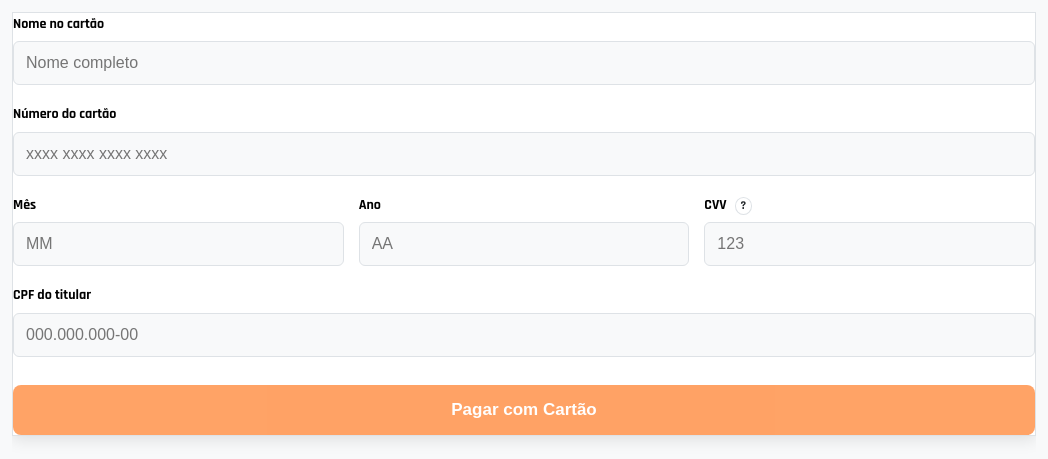
Test: CreditCardForm.vue › formata o número do cartão com espaços
Type "1234567812345678" into the field with id "numeroCartao" at {"x": 524, "y": 154}, box [13,132,1035,176]
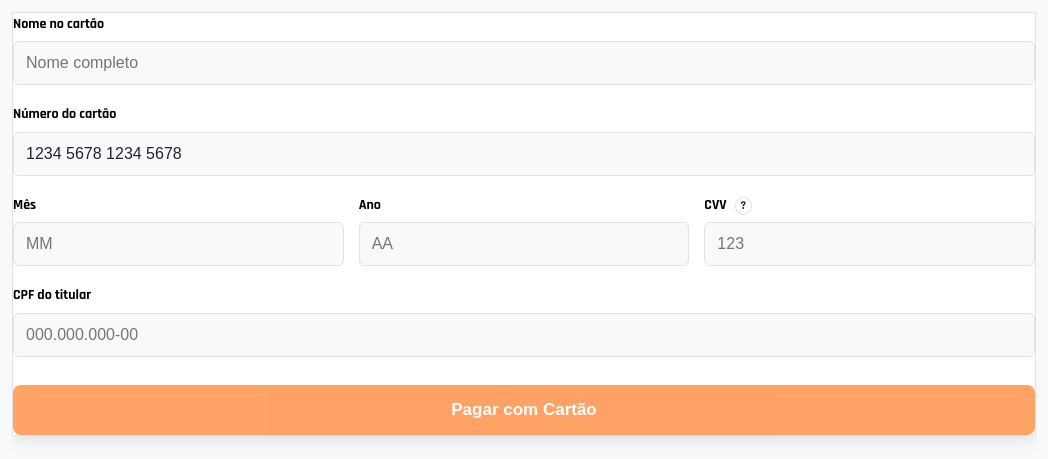
Expected: the field with id "numeroCartao" holds "1234 5678 1234 5678", [13,132,1035,176]
